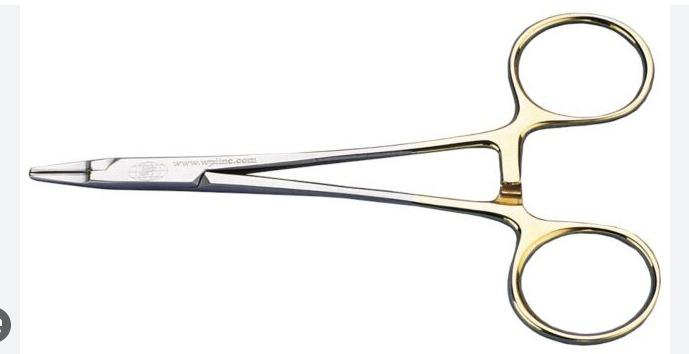Needle Holder: (28, 10, 667, 348)
